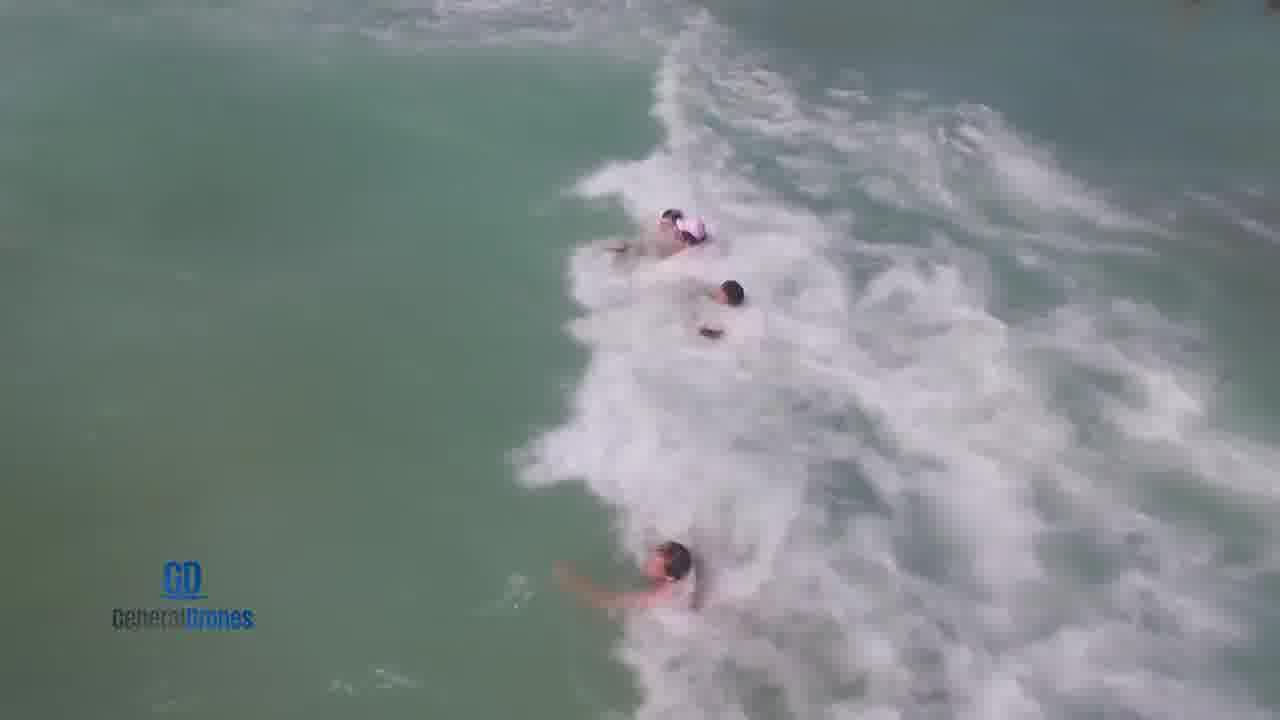human: (539, 529, 710, 610), (587, 198, 717, 263), (670, 264, 756, 349)
